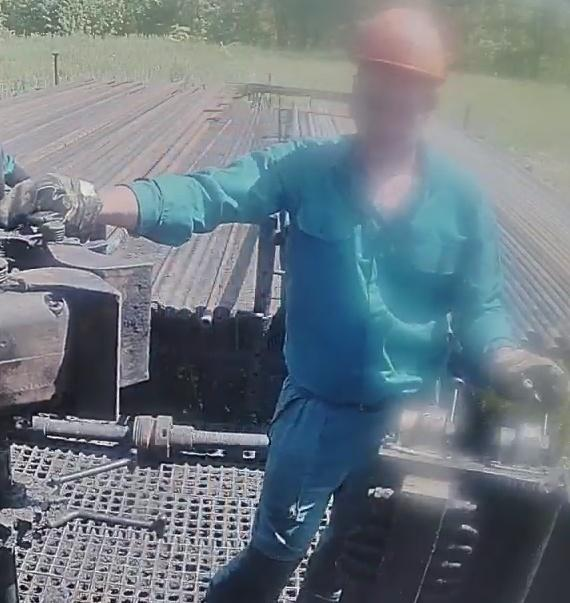gloves: (0, 172, 119, 245), (480, 342, 569, 403)
helmet: (350, 1, 448, 85)
vest: (251, 138, 499, 427)
